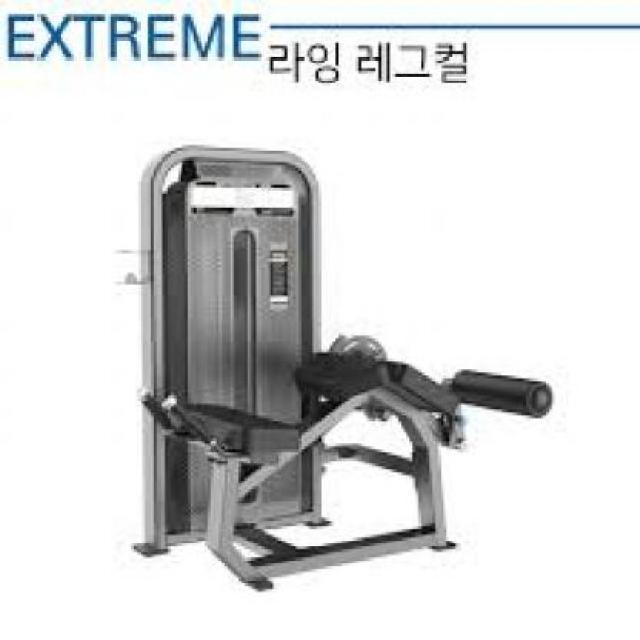reg curl machine: (117, 140, 558, 597)
